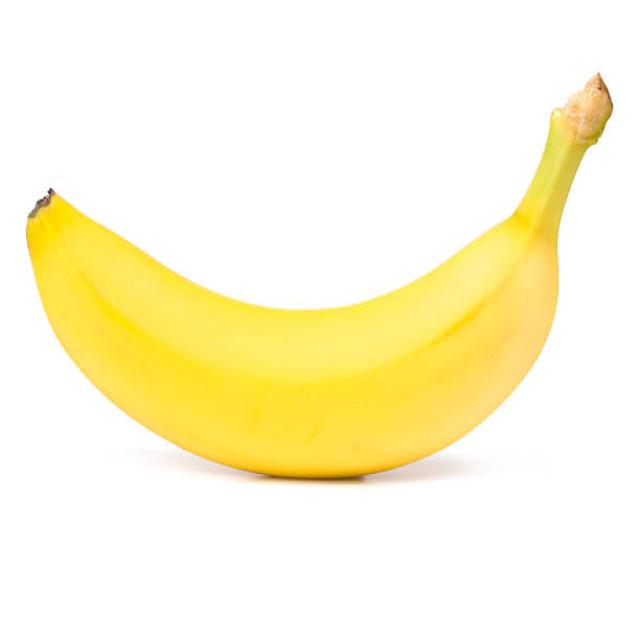banana: (22, 73, 613, 483)
